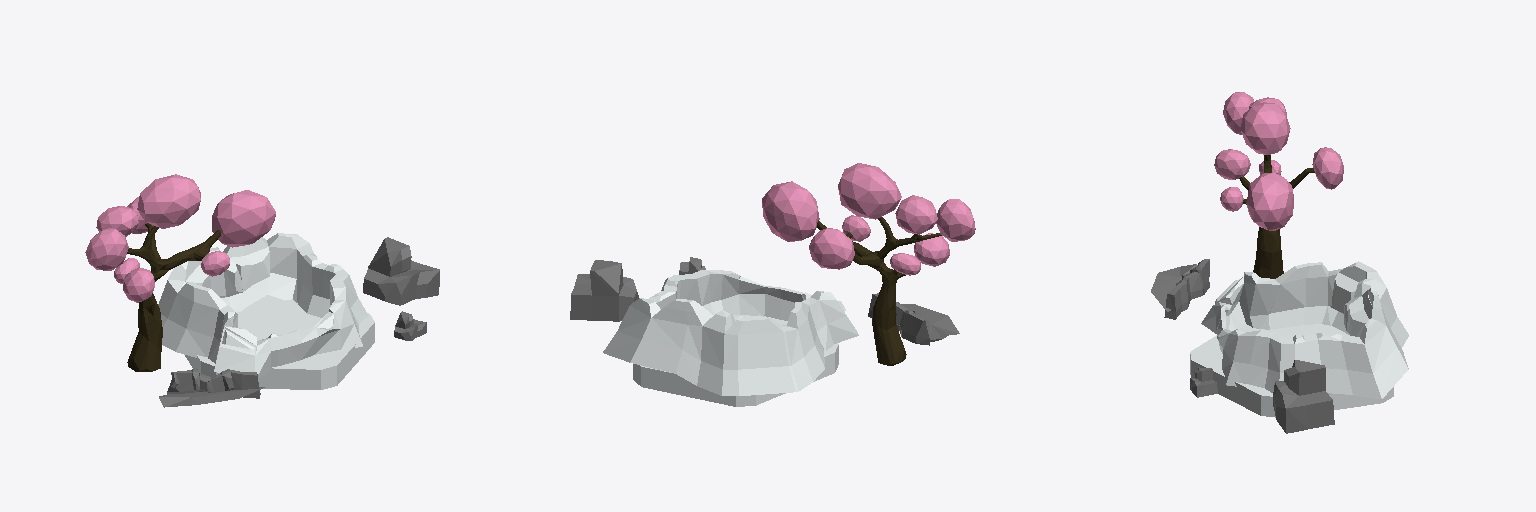
The model's file is rockWithTree.obj.
The picture shows the model from 3 angles: view 1: azimuth 30°, elevation 25°; view 2: azimuth 150°, elevation 25°; view 3: azimuth 270°, elevation 25°; orthographic projection.
Visible parts, largest first — view 1: RockFormation_Cube_001, crown, Gengon001, BlossomTree_Icosphere_005, LargeRock_Cube_004, Medium_Rock_Cube_003, SmallRock_Cube_005; view 2: RockFormation_Cube_001, crown, BlossomTree_Icosphere_005, LargeRock_Cube_004, Gengon001, Medium_Rock_Cube_003; view 3: RockFormation_Cube_001, crown, Gengon001, LargeRock_Cube_004, Medium_Rock_Cube_003, BlossomTree_Icosphere_005, SmallRock_Cube_005.
Part boxes in pixels (x1,y1,x2,y2): RockFormation_Cube_001: (158,233,368,378); crown: (85,174,275,302); Gengon001: (185,295,374,389); BlossomTree_Icosphere_005: (127,223,220,371); LargeRock_Cube_004: (363,237,439,305); Medium_Rock_Cube_003: (159,368,264,407); SmallRock_Cube_005: (394,311,426,340); RockFormation_Cube_001: (603,270,858,395); crown: (762,163,975,275); BlossomTree_Icosphere_005: (817,217,941,365); LargeRock_Cube_004: (570,260,638,321); Gengon001: (633,315,838,406); Medium_Rock_Cube_003: (868,293,959,345); RockFormation_Cube_001: (1201,261,1408,398); crown: (1214,92,1343,230); Gengon001: (1190,324,1393,417); LargeRock_Cube_004: (1273,360,1334,433); Medium_Rock_Cube_003: (1151,259,1209,319); BlossomTree_Icosphere_005: (1239,155,1314,278); SmallRock_Cube_005: (1190,367,1217,397).
Bounding box in the file's own units: 21.56 × 11.71 × 12.9.